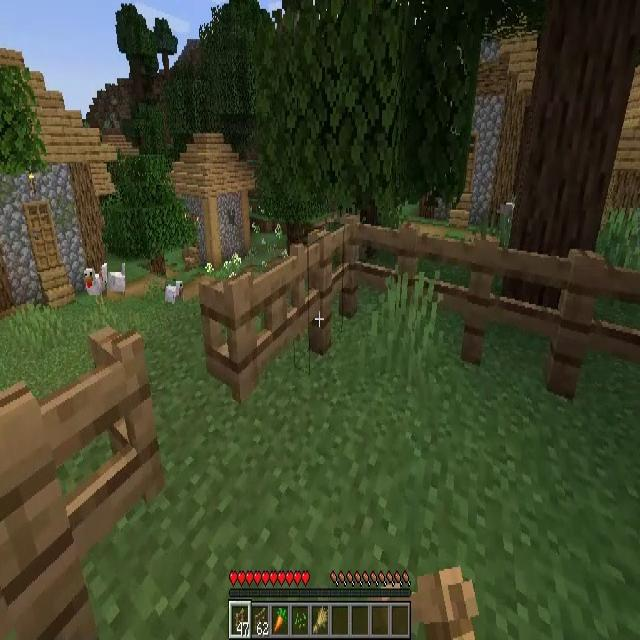duck: (107, 263, 125, 302), (84, 267, 102, 304), (165, 281, 183, 309)
